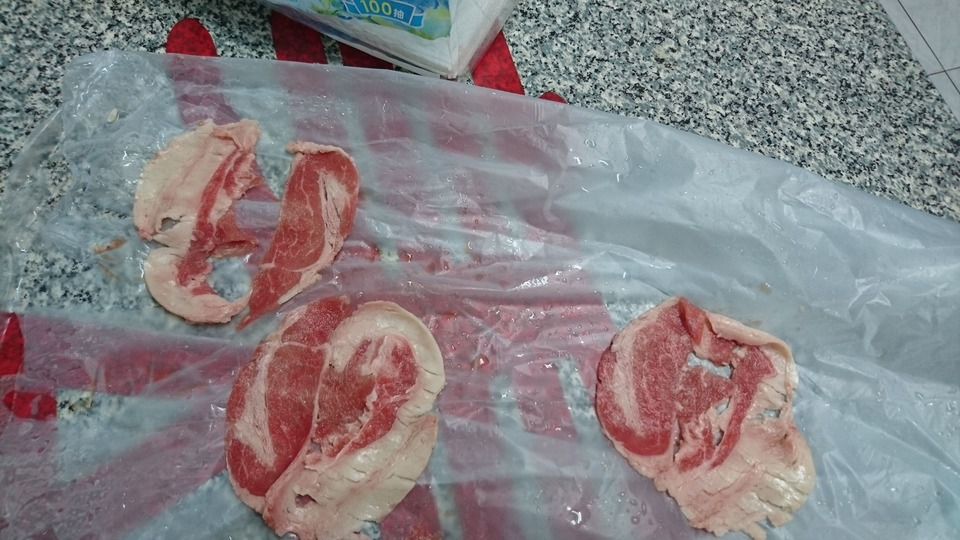restructured meat: (229, 296, 451, 540), (589, 296, 811, 540), (139, 117, 358, 322)
